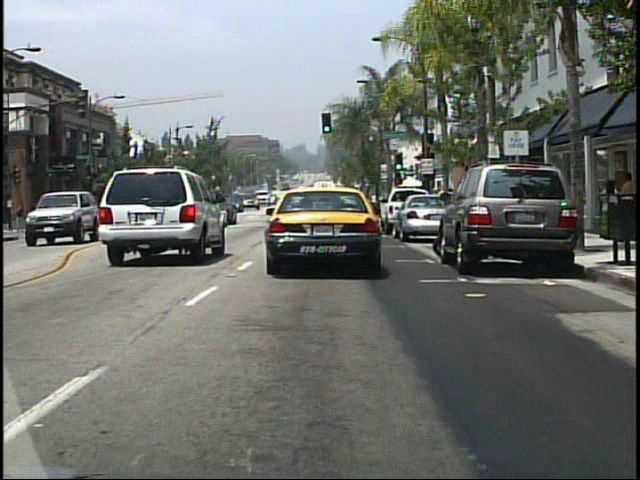person: (603, 181, 624, 242), (619, 171, 639, 232)
